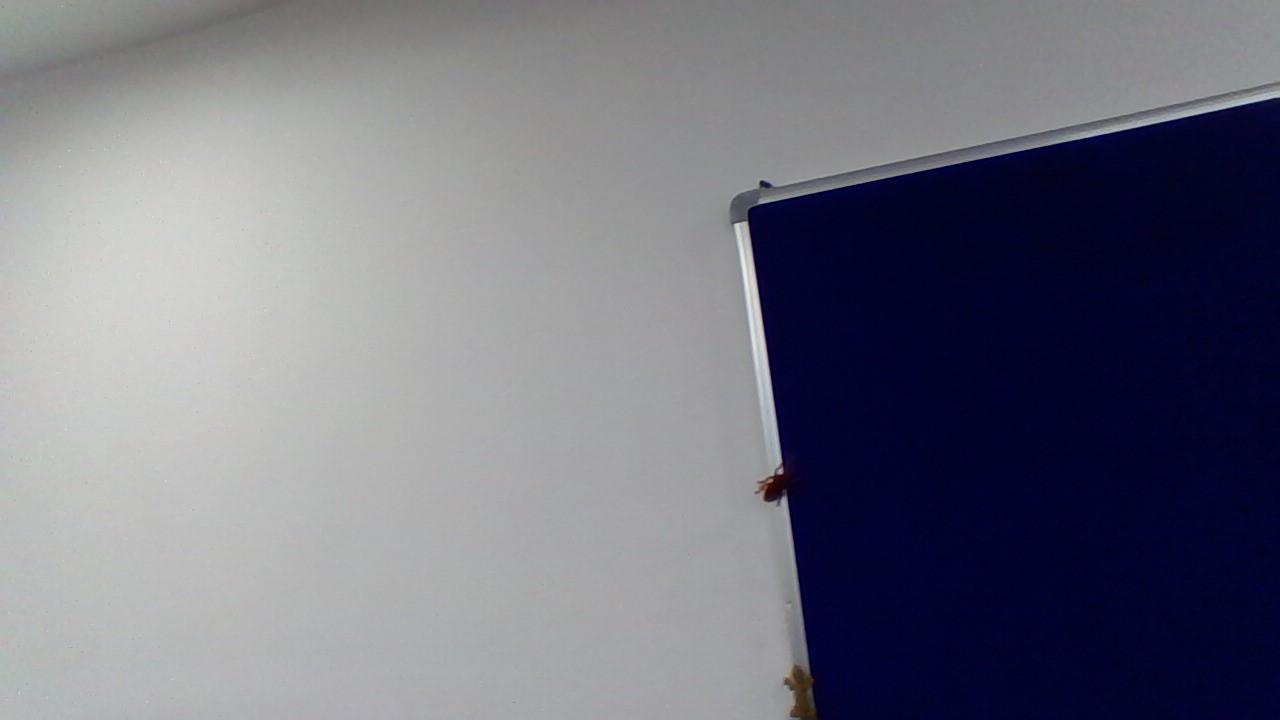cockroach: (757, 460, 803, 505)
lizard: (787, 657, 824, 720)
